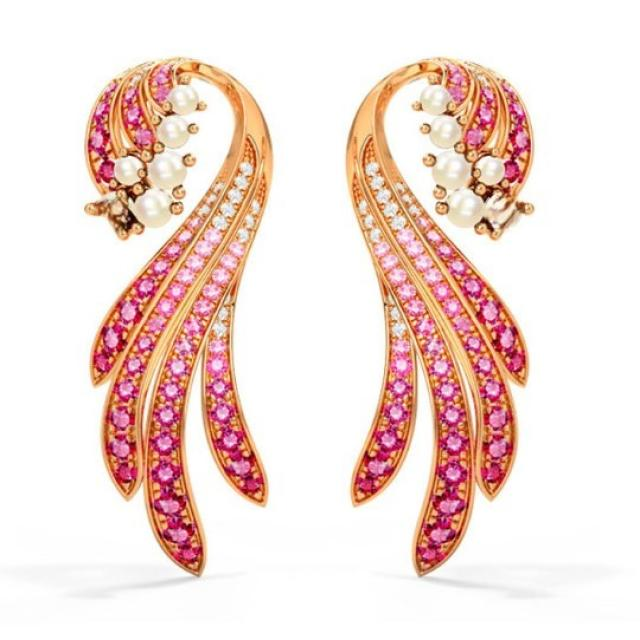missing gem: (483, 191, 527, 232)
